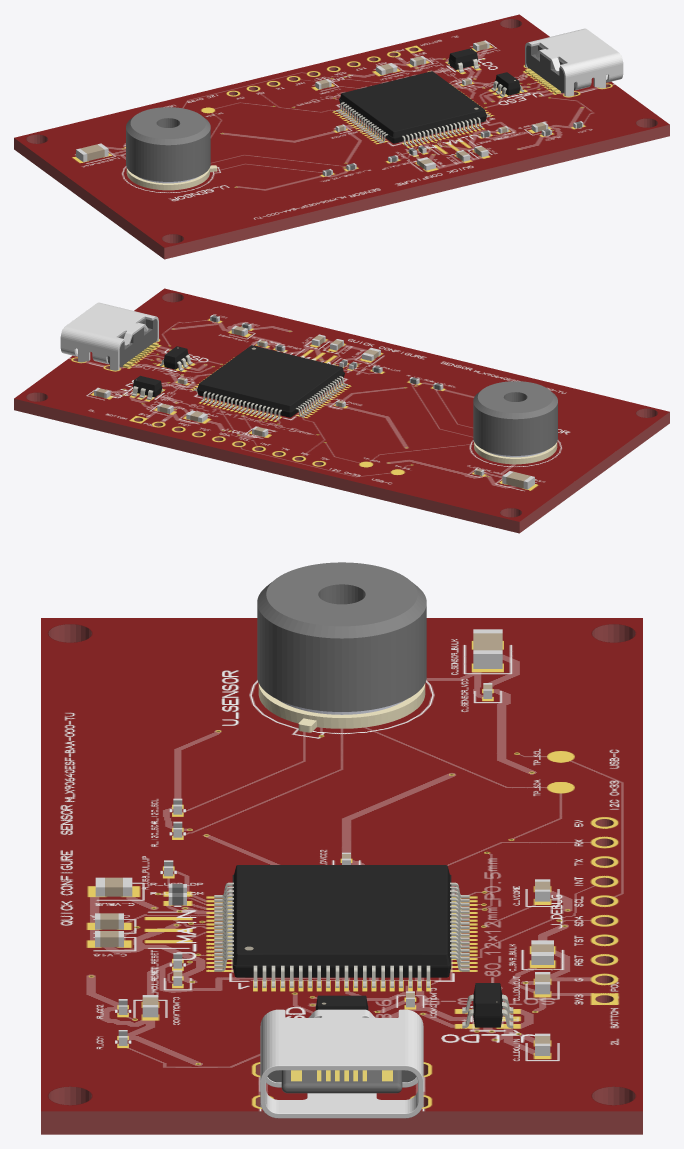
3 renders of one model, top to bottom at view 1: azimuth 30°, elevation 25°; view 2: azimuth 150°, elevation 25°; view 3: azimuth 270°, elevation 25°, orthographic. The views are drawn at different scales.
Parts seen in each view (by area): view 1: Box0, U_MAIN, U_SENSOR, J_USB, U_LDO, U_ESD, C_SENSOR_BULK; view 2: Box0, U_MAIN, U_SENSOR, J_USB, U_LDO, U_ESD, C_SENSOR_BULK; view 3: Box0, U_MAIN, U_SENSOR, J_USB, U_LDO, C_SENSOR_BULK.
Part boxes in pixels (<box>): Box0: <box>14,14,669,259</box>; U_MAIN: <box>335,71,490,146</box>; U_SENSOR: <box>126,107,217,190</box>; J_USB: <box>525,28,623,96</box>; U_LDO: <box>447,48,479,72</box>; U_ESD: <box>491,72,524,97</box>; C_SENSOR_BULK: <box>76,143,108,162</box>; Box0: <box>14,288,669,533</box>; U_MAIN: <box>193,345,348,420</box>; U_SENSOR: <box>473,381,557,464</box>; J_USB: <box>60,302,158,370</box>; U_LDO: <box>131,375,163,400</box>; U_ESD: <box>159,346,192,371</box>; C_SENSOR_BULK: <box>502,471,534,489</box>; Box0: <box>41,618,642,1134</box>; U_MAIN: <box>214,865,469,987</box>; U_SENSOR: <box>257,562,426,732</box>; J_USB: <box>260,1009,423,1118</box>; U_LDO: <box>462,983,513,1028</box>; C_SENSOR_BULK: <box>473,629,502,668</box>.
Size of the model in its own units: 65.04 by 12.5 by 33.
Materials: 18 (2 with a texture image).
